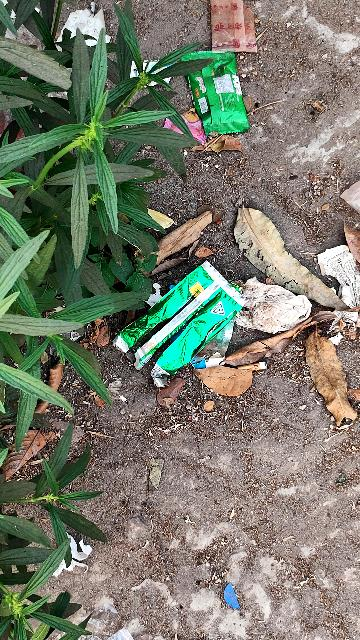packet: (131, 261, 227, 371), (194, 48, 246, 136)
